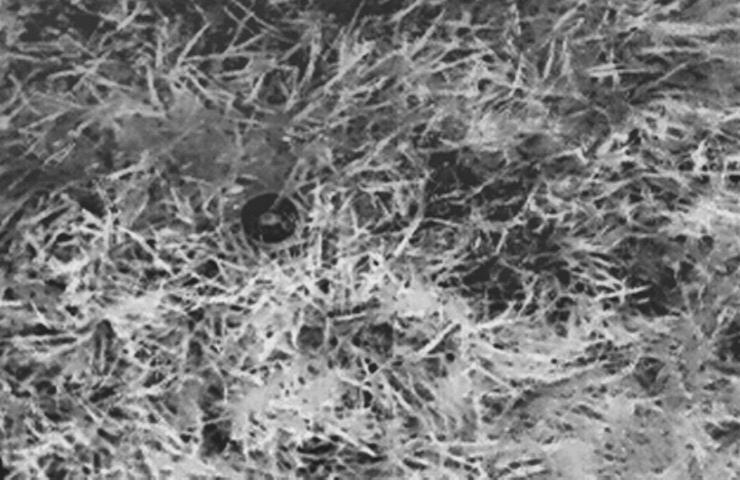landmines: (228, 181, 319, 255)
